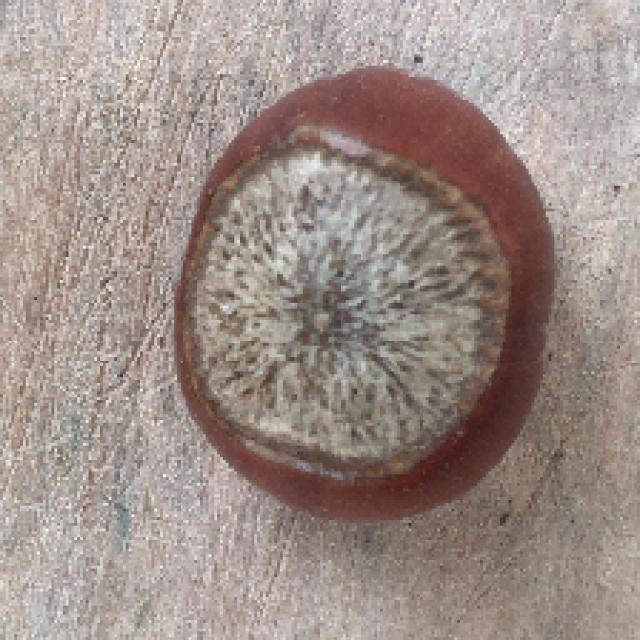qualityHazelnut: (167, 64, 567, 519)
